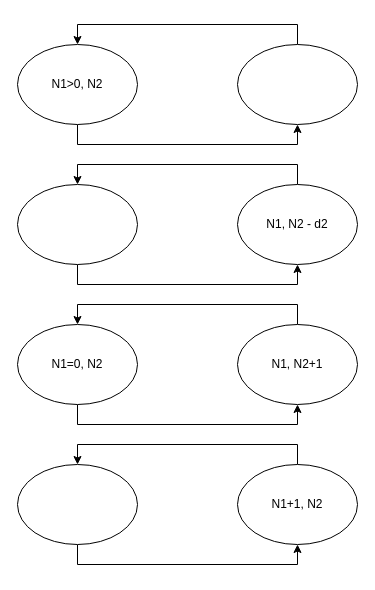
Image size: 375x590. Some labels were removed from this diagram. The centre of each missing label's shape, as x and y in pixels:
"N1 - d1, N2" goes at (297,84).
"N1, N2=0" goes at (77,504).
"N1, N2>0" goes at (77,224).
